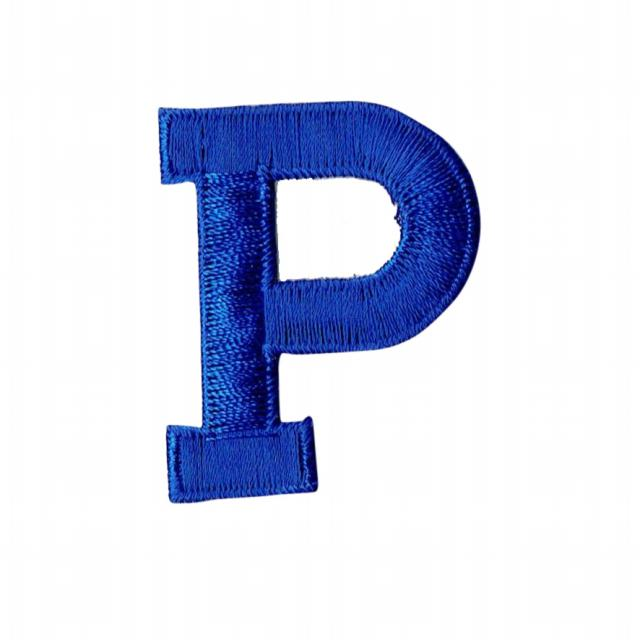P: (114, 40, 489, 538)
